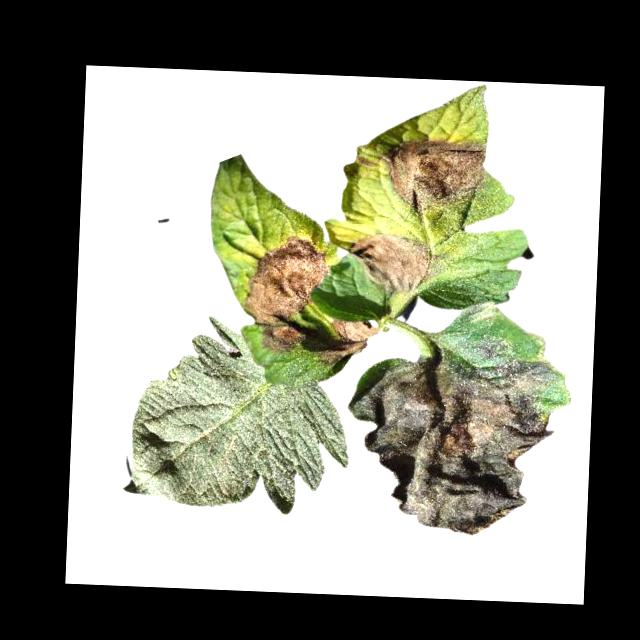Late_blight: (343, 328, 580, 539), (243, 228, 331, 355), (378, 135, 489, 217), (347, 230, 438, 298), (319, 316, 383, 368), (459, 301, 496, 326)
healthy: (128, 311, 355, 516)
